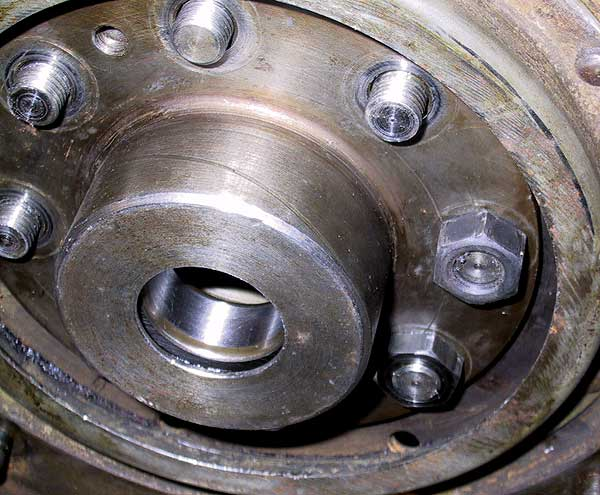bolt_b: (430, 207, 527, 310), (372, 329, 467, 414)
